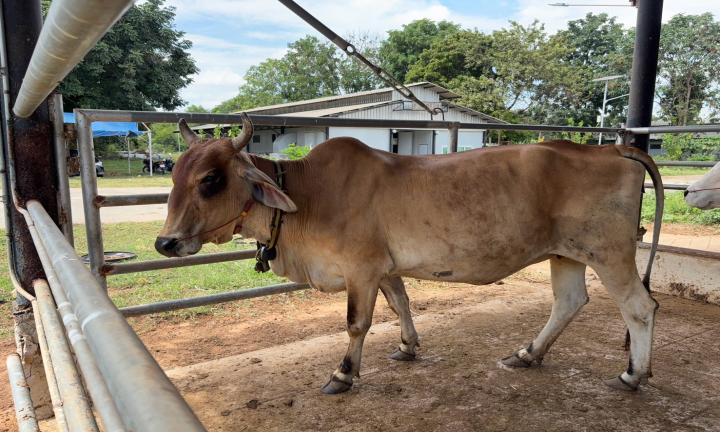Brahman: (155, 113, 663, 393)
